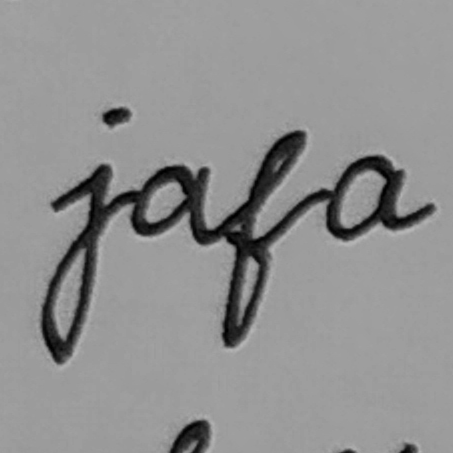a: (320, 148, 414, 248), (126, 157, 217, 252)
f: (217, 125, 313, 351)
j: (32, 99, 136, 367)
